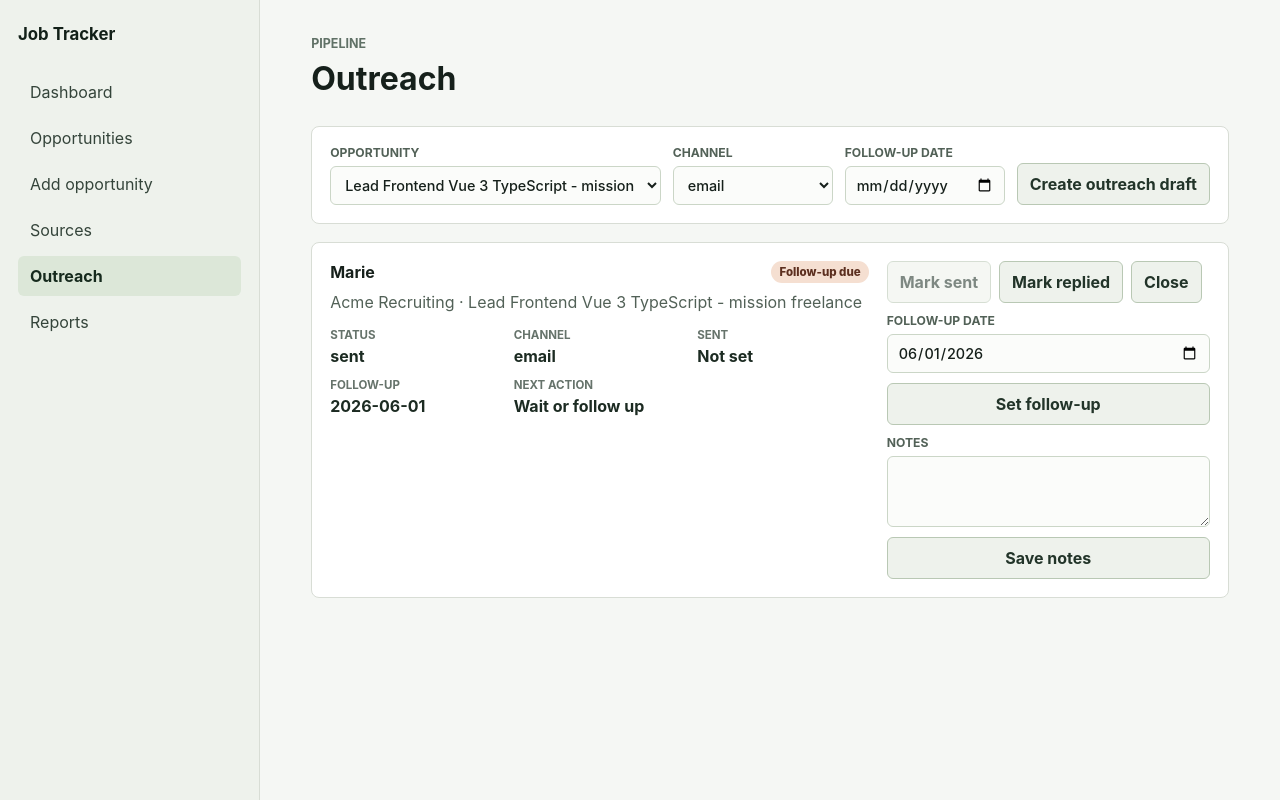
Scenario: Root › loads outreach and persists outreach status updates
expect the heading "Marie" is shown: met, box [330,262,375,282]
Click the button "Mark replied": [1061, 282] box [999,261,1123,303]
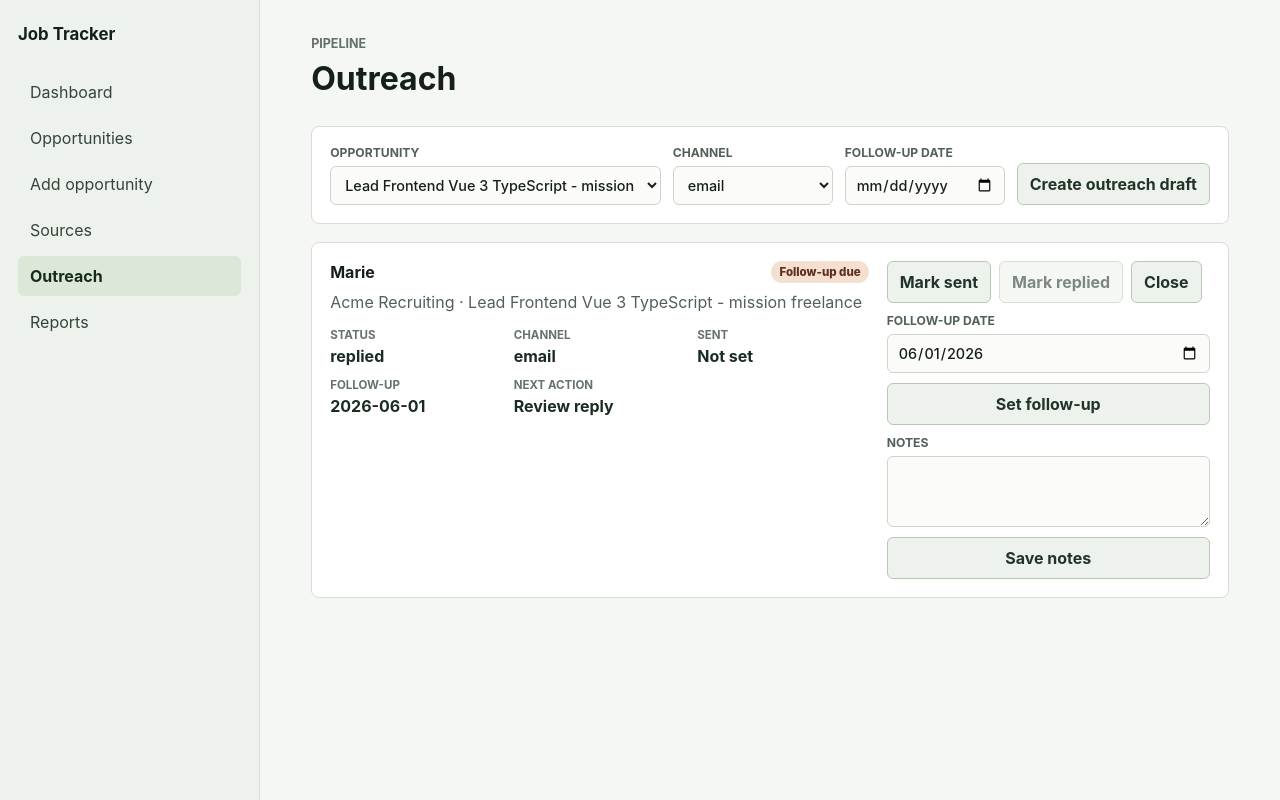
expect the text "replied" is shown: met, box [330,346,384,366]
